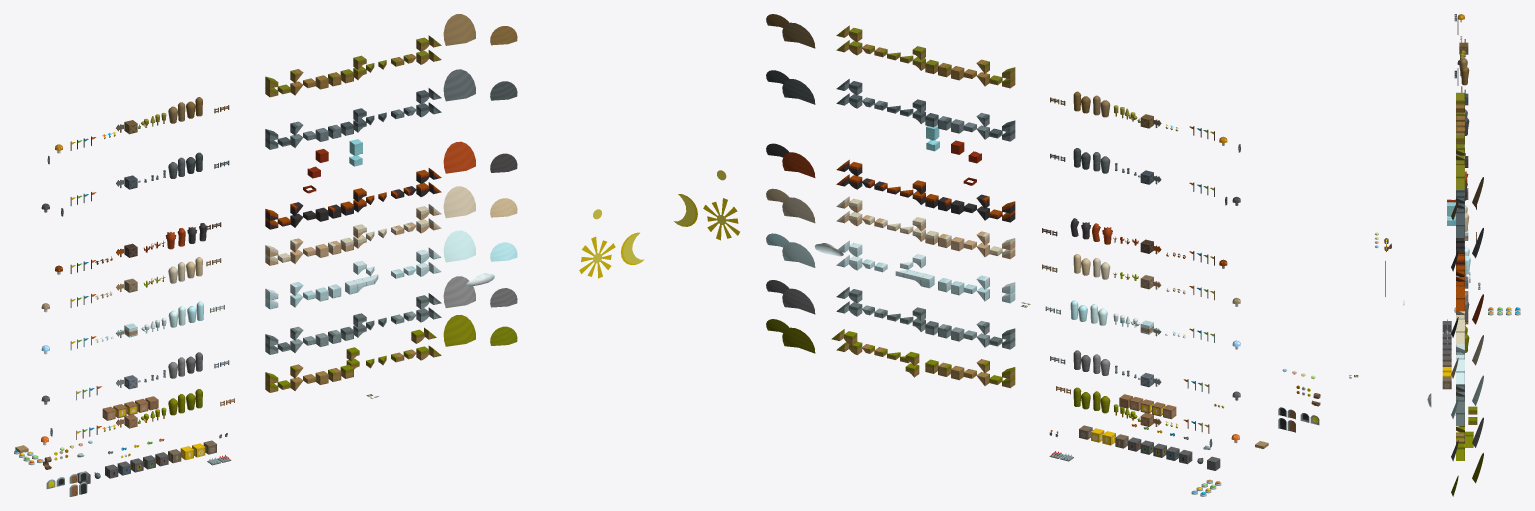
File: TileTool MDL.fbx
3 renders of one model, left to right at view 1: azimuth 30°, elevation 25°; view 2: azimuth 150°, elevation 25°; view 3: azimuth 270°, elevation 25°, orthographic. The views are drawn at different scales.
Visible parts, largest first — view 1: SummerDark_BG_Hill01, Winter_BG_Hill01, Summer_BG_Hill01, BrickDark_BG_Hill01, Hell_BG_Hill01, Desert_BG_Hill01, Brick_BG_Hill01; view 2: no part large enough to name; view 3: no part large enough to name.
Part boxes in pixels (x1=…): SummerDark_BG_Hill01: x1=443, y1=14, x2=475, y2=45; Winter_BG_Hill01: x1=443, y1=230, x2=475, y2=262; Summer_BG_Hill01: x1=443, y1=315, x2=475, y2=346; BrickDark_BG_Hill01: x1=443, y1=69, x2=475, y2=101; Hell_BG_Hill01: x1=443, y1=141, x2=475, y2=173; Desert_BG_Hill01: x1=443, y1=186, x2=475, y2=218; Brick_BG_Hill01: x1=443, y1=276, x2=475, y2=307.
Size of the model in its own units: 7369 by 4292 by 1928.
1 material, 1 textured.
